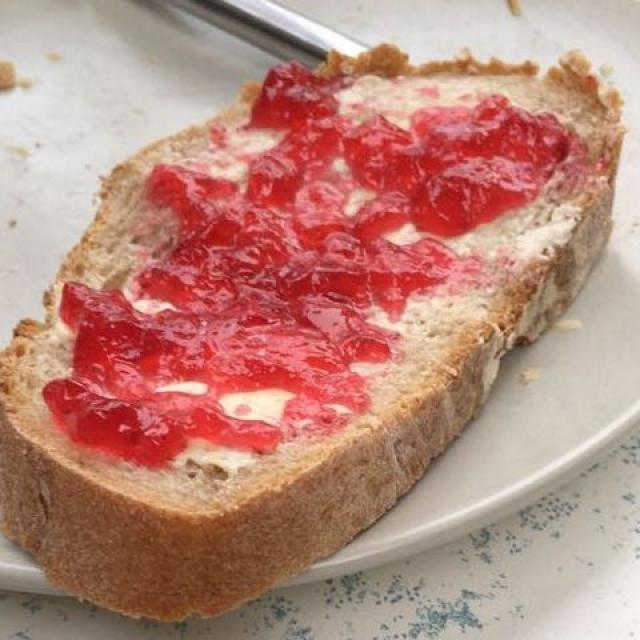bread: (15, 54, 621, 610)
jam: (7, 59, 599, 502)
